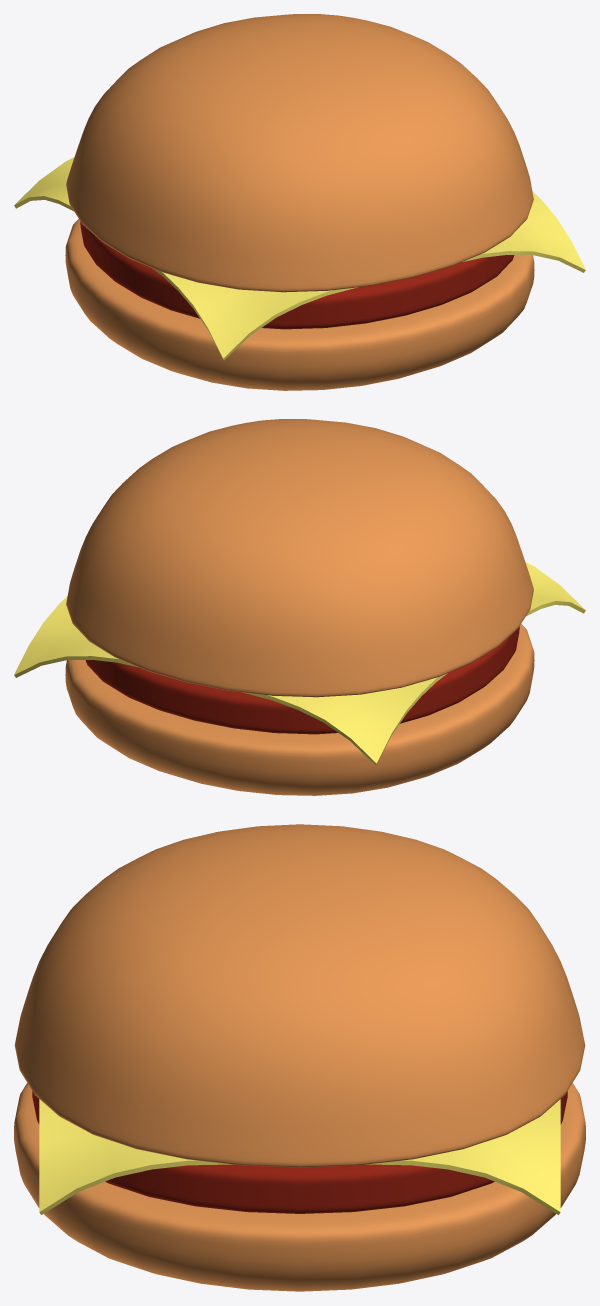
Rendered from hamburger.glb.
3 views of the same model, one above another, from view 1: azimuth 30°, elevation 25°; view 2: azimuth 150°, elevation 25°; view 3: azimuth 270°, elevation 25° (orthographic). The views are drawn at different scales.
Parts seen in each view (by area): view 1: top, bottom, meat, cheese; view 2: top, bottom, meat, cheese; view 3: top, bottom, meat, cheese.
Boxes of the visible parts, x1=… form: top: x1=66, y1=14, x2=533, y2=292; bottom: x1=65, y1=219, x2=534, y2=390; meat: x1=80, y1=221, x2=514, y2=329; cheese: x1=14, y1=157, x2=585, y2=360; top: x1=66, y1=419, x2=533, y2=697; bottom: x1=65, y1=624, x2=534, y2=795; meat: x1=85, y1=626, x2=519, y2=734; cheese: x1=14, y1=562, x2=585, y2=765; top: x1=14, y1=824, x2=585, y2=1167; bottom: x1=14, y1=1083, x2=585, y2=1291; meat: x1=32, y1=1091, x2=567, y2=1213; cheese: x1=39, y1=1099, x2=560, y2=1214.
Size of the model in its own units: 9.1 by 6.04 by 9.1.
